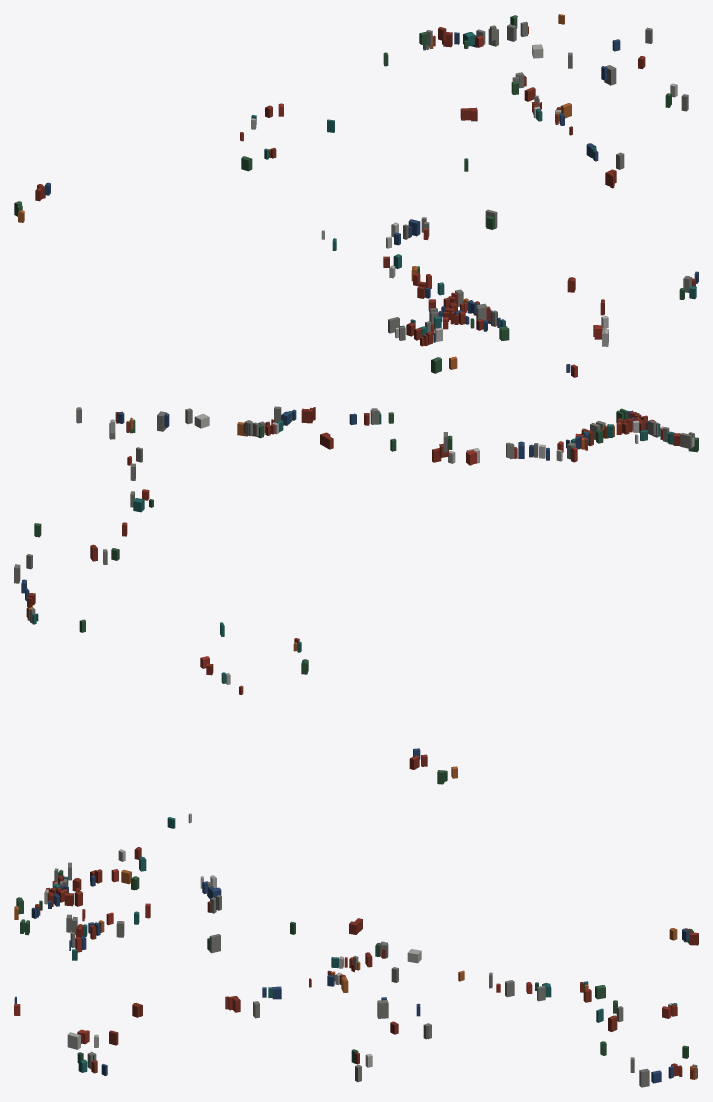
The model's file is near-15-27365-14861.109858fa.glb.
3 views of the same model, one above another, from view 1: azimuth 30°, elevation 25°; view 2: azimuth 150°, elevation 25°; view 3: azimuth 270°, elevation 25° (orthographic).
Bounding box in the file's own units: 1001 × 336 × 1166.
